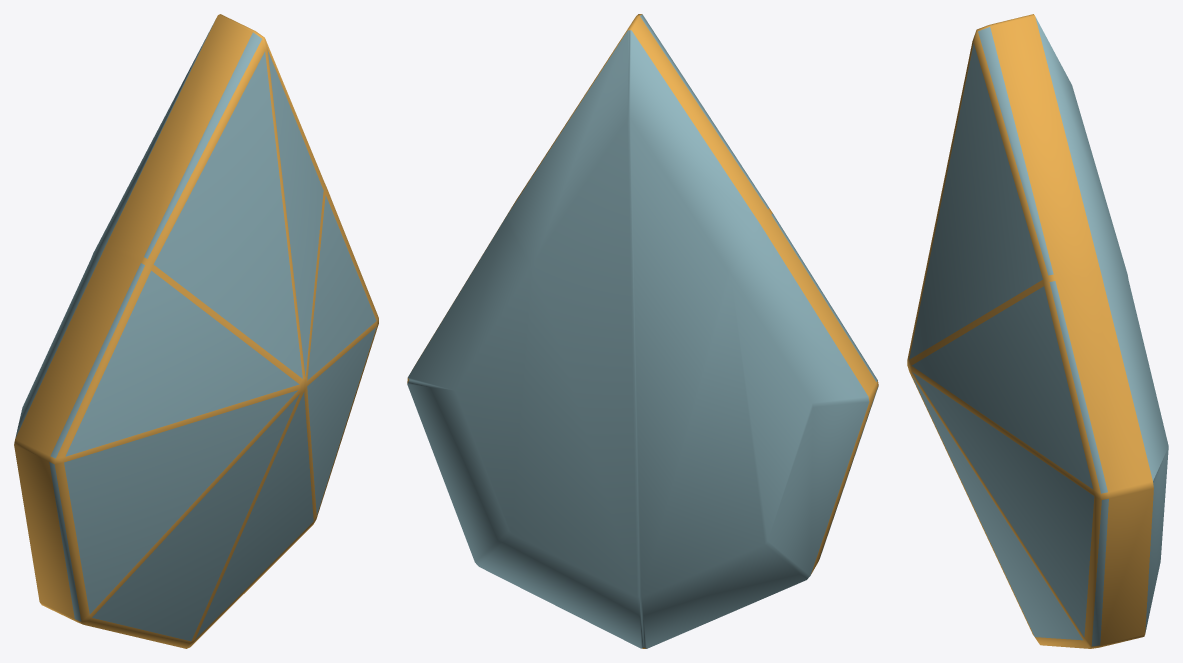
Rendered from deraumere.glb.
3 views of the same model, side by side, from view 1: azimuth 30°, elevation 25°; view 2: azimuth 150°, elevation 25°; view 3: azimuth 270°, elevation 25° (orthographic). The views are drawn at different scales.
Visible parts, largest first — view 1: Plane.001; view 2: Plane.001; view 3: Plane.001.
Boxes of the visible parts, x1,y1,x2,y2 form: Plane.001: (14, 14, 378, 648); Plane.001: (407, 14, 878, 648); Plane.001: (907, 14, 1168, 648).
Bounding box in the file's own units: 0.6011 × 0.8549 × 0.315.
